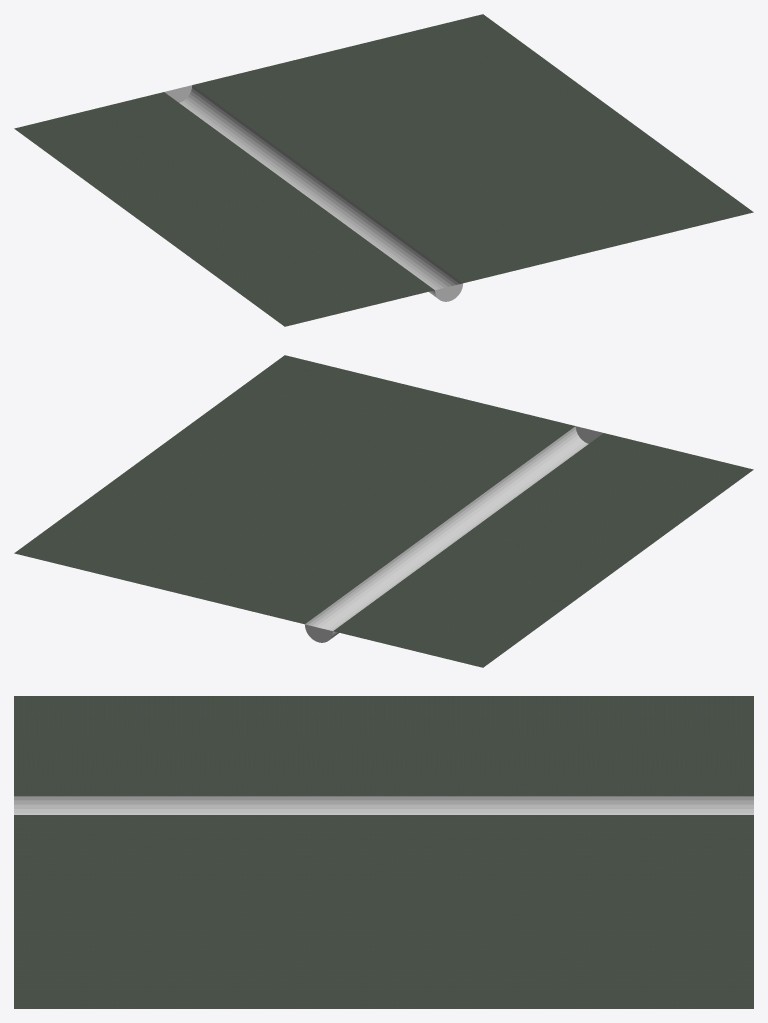
File: floor.obj
The picture shows the model from 3 angles, top to bottom: view 1: azimuth 30°, elevation 25°; view 2: azimuth 150°, elevation 25°; view 3: azimuth 270°, elevation 25°; orthographic projection. The views are drawn at different scales.
Visible parts, largest first — view 1: Plane.003, Cylinder; view 2: Plane.003, Cylinder; view 3: Plane.003, Cylinder.
Boxes of the visible parts, x1=… form: Plane.003: x1=14, y1=14, x2=753, y2=326; Cylinder: x1=164, y1=85, x2=462, y2=301; Plane.003: x1=14, y1=355, x2=753, y2=667; Cylinder: x1=305, y1=426, x2=603, y2=642; Plane.003: x1=14, y1=696, x2=753, y2=1008; Cylinder: x1=14, y1=796, x2=753, y2=814.
Size of the model in its own units: 1000 by 30 by 1000.
